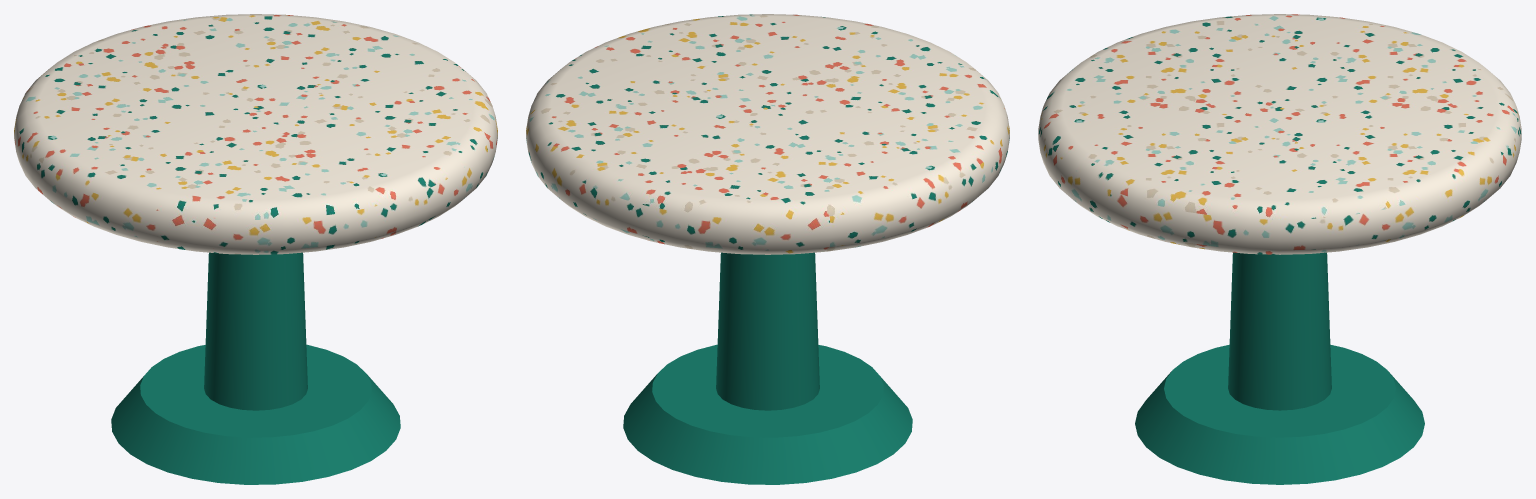
File: table_c.glb
The picture shows the model from 3 angles, left to right: view 1: azimuth 30°, elevation 25°; view 2: azimuth 150°, elevation 25°; view 3: azimuth 270°, elevation 25°; orthographic projection.
Visible parts, largest first — view 1: body; view 2: body; view 3: body.
Boxes of the visible parts, x1,y1,x2,y2 form: body: (14,14,497,484); body: (526,14,1009,484); body: (1038,14,1521,484).
Size of the model in its own units: 1 by 0.72 by 1.
2 materials, 1 textured.
